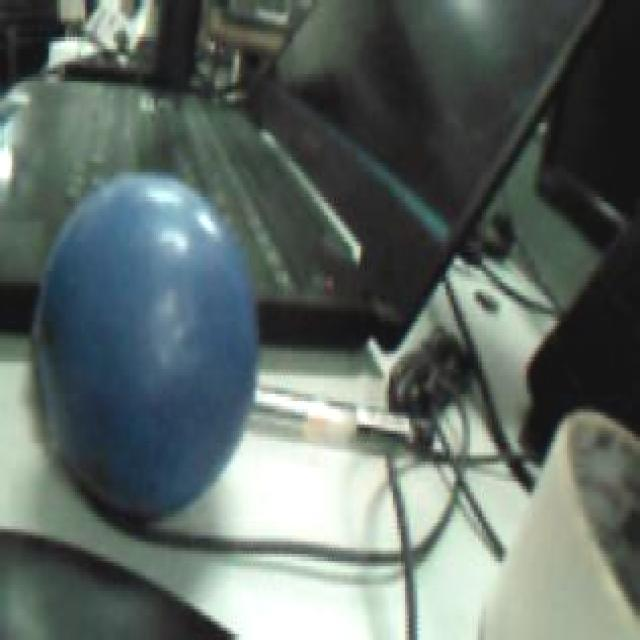BallPurple: (34, 174, 257, 524)
